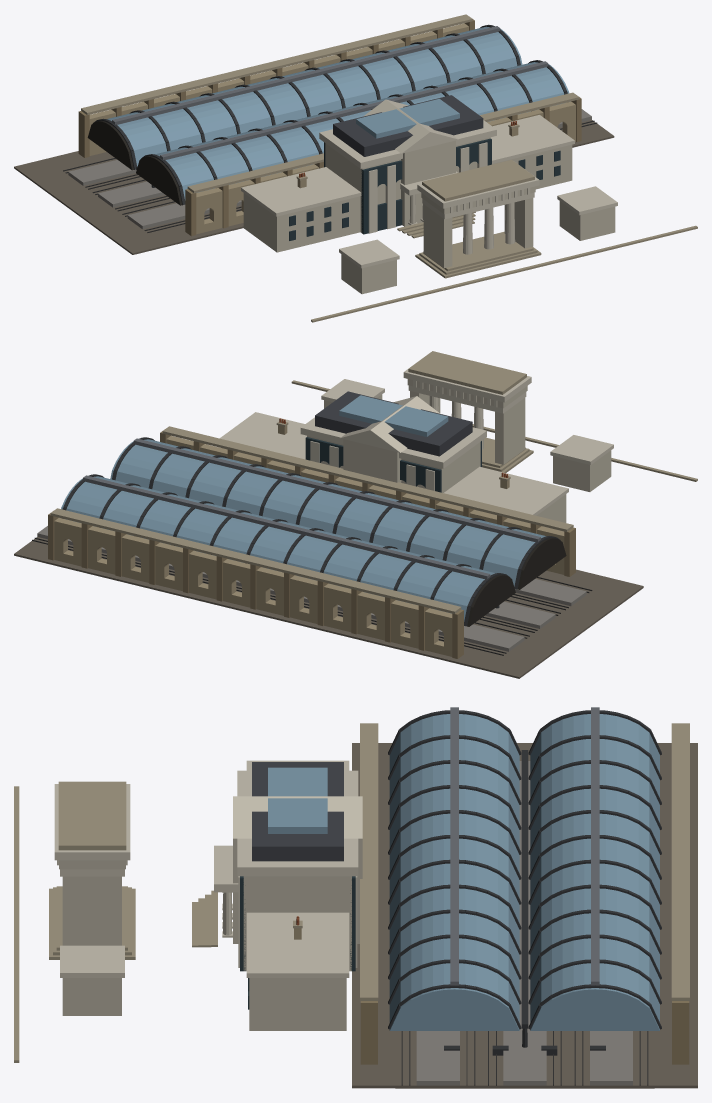
Rendered from euston_station_1838.glb.
3 views of the same model, one above another, from view 1: azimuth 30°, elevation 25°; view 2: azimuth 150°, elevation 25°; view 3: azimuth 270°, elevation 25° (orthographic). The views are drawn at different scales.
Visible parts, largest first — view 1: euston_station_1838; view 2: euston_station_1838; view 3: euston_station_1838.
Boxes of the visible parts, bbox=[...] form: euston_station_1838: bbox=[14, 14, 697, 322]; euston_station_1838: bbox=[14, 351, 697, 678]; euston_station_1838: bbox=[14, 707, 697, 1088].
Bounding box in the file's own units: 150 × 27 × 126.
